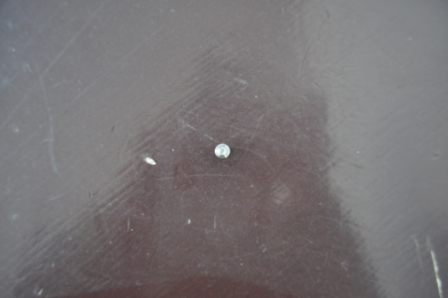NUT (MT): (214, 143, 231, 159)
